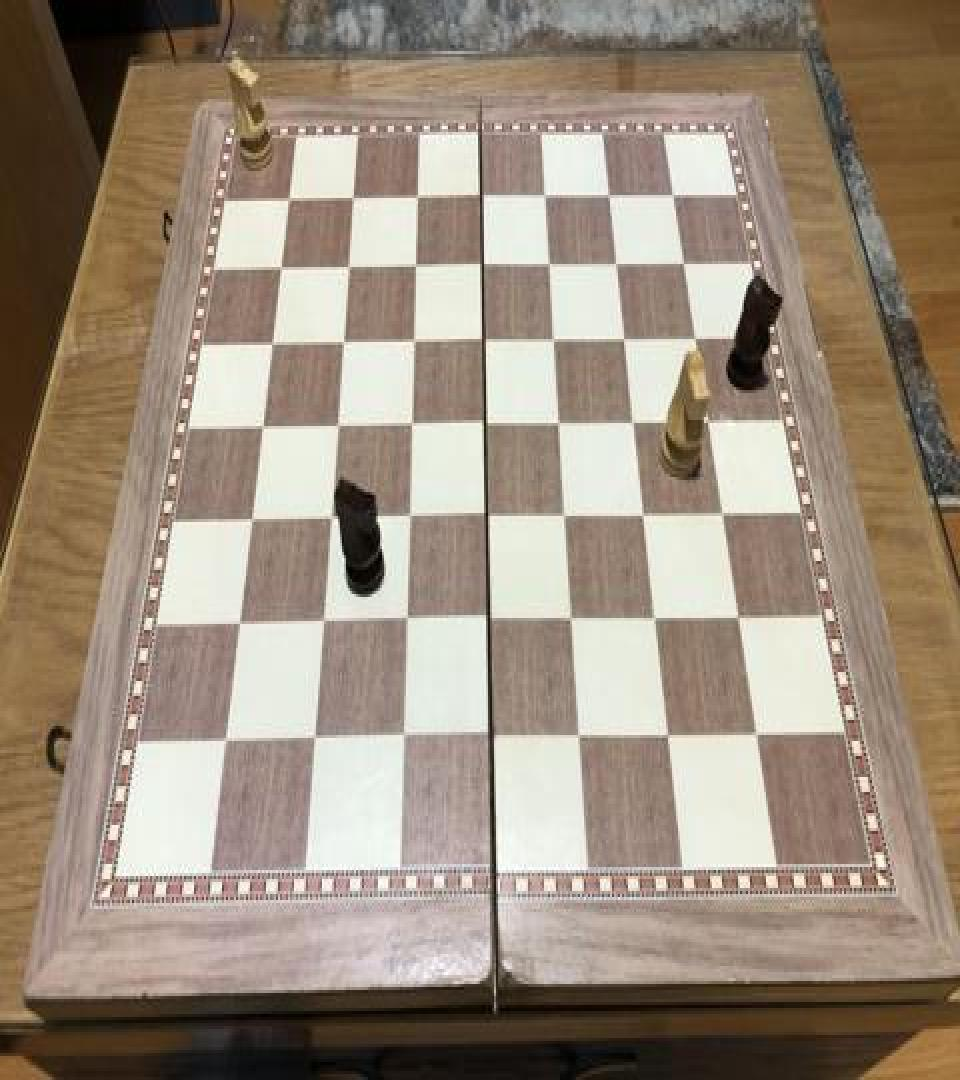xcorner: (478, 601, 502, 638), (480, 718, 504, 755), (660, 174, 684, 210), (596, 176, 620, 212), (532, 177, 556, 213), (469, 178, 493, 214), (405, 178, 429, 214), (341, 180, 365, 216), (278, 182, 302, 218), (670, 243, 694, 279), (604, 244, 628, 280), (537, 244, 561, 280), (470, 246, 494, 282), (403, 248, 427, 284), (337, 249, 361, 285), (270, 250, 294, 286), (682, 318, 706, 354), (612, 320, 636, 356), (542, 320, 566, 356), (472, 321, 496, 357), (402, 322, 426, 358), (331, 324, 355, 360), (261, 326, 285, 362), (695, 400, 719, 436), (621, 402, 645, 438), (547, 404, 571, 440), (474, 405, 498, 441), (400, 406, 424, 442), (326, 408, 350, 444), (251, 410, 275, 446), (710, 494, 734, 530), (632, 495, 656, 531), (554, 496, 578, 532), (475, 498, 499, 534), (397, 500, 421, 536), (319, 501, 343, 537), (241, 502, 265, 538), (726, 597, 750, 633), (643, 598, 667, 634), (560, 600, 584, 636), (395, 603, 419, 639), (312, 604, 336, 640), (229, 606, 253, 642), (744, 714, 768, 750), (656, 716, 680, 752), (568, 717, 592, 753), (392, 720, 416, 756), (304, 722, 328, 758), (215, 724, 239, 760)
